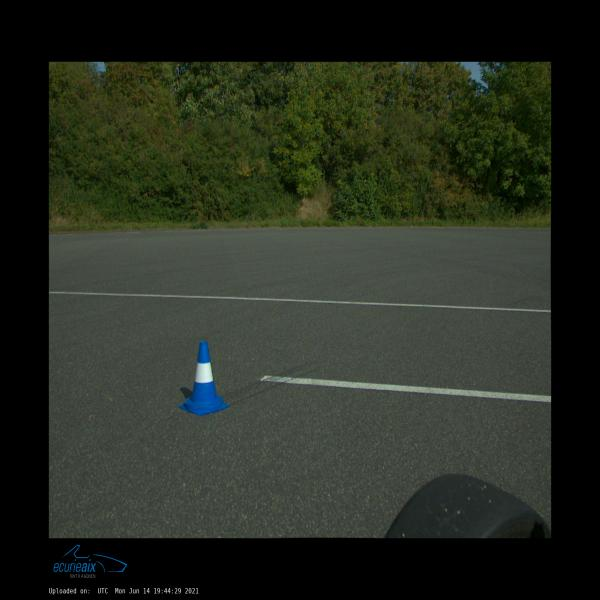blue_cone: (179, 341, 230, 415)
